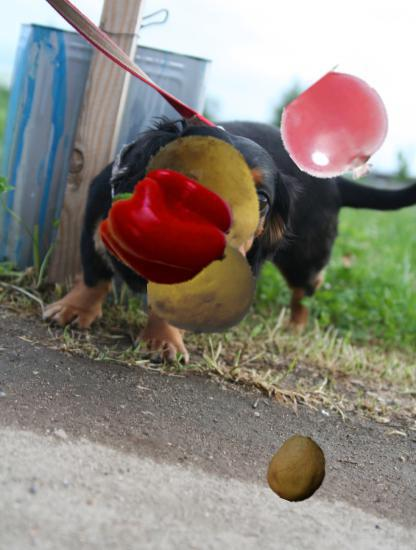Lemon: (147, 232, 257, 342)
Papaya: (264, 435, 332, 503)
Pepper: (106, 165, 232, 291)
Potato: (134, 125, 269, 260)
Redcurrant: (284, 76, 394, 186)
